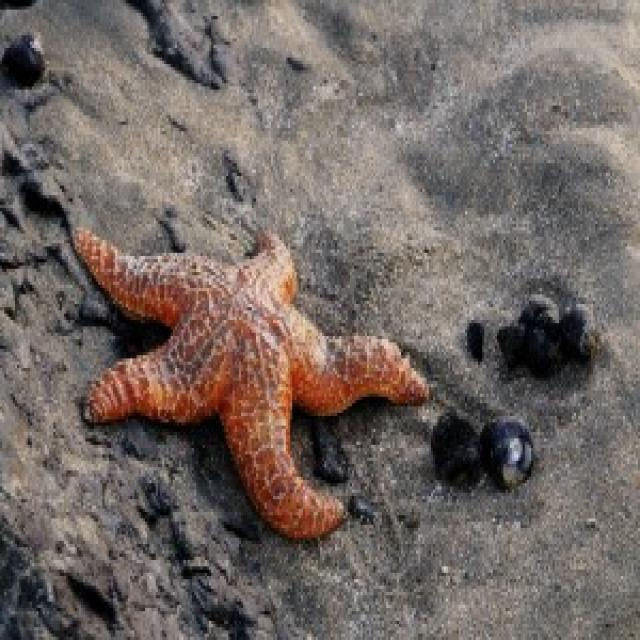Starfish: (70, 212, 430, 549)
